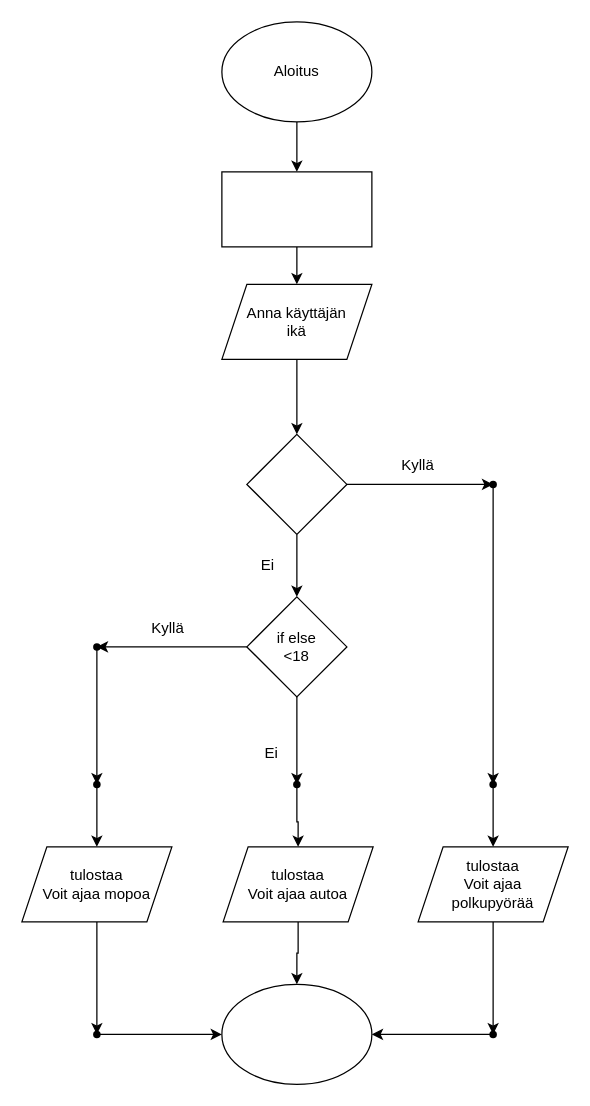
The diagram is 590 pixels wide and 1106 high, and some of its shapes have lost their labels. The centre of each missing label's shape, as x and y in pixels:
"if <16" goes at point (296, 483).
"Lopetus" goes at point (296, 1033).
"var ikä" goes at point (296, 209).
